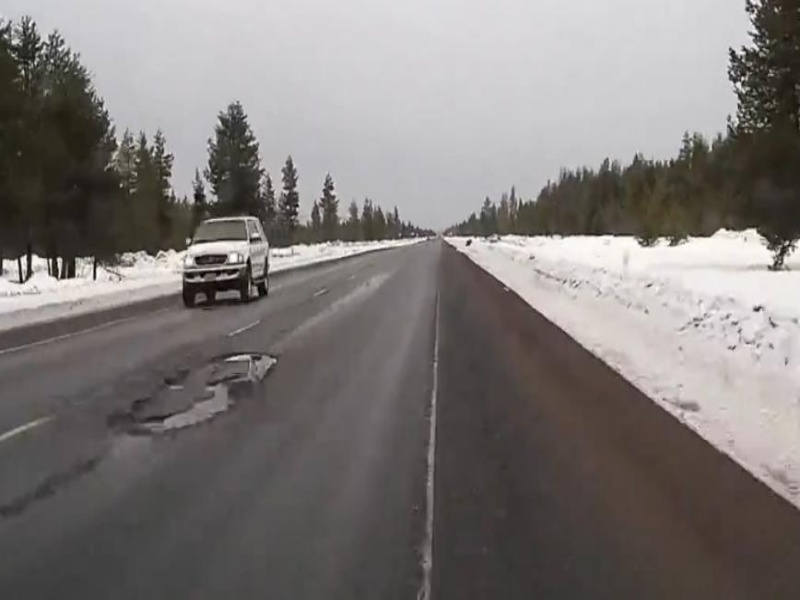pothole: (110, 344, 280, 441)
